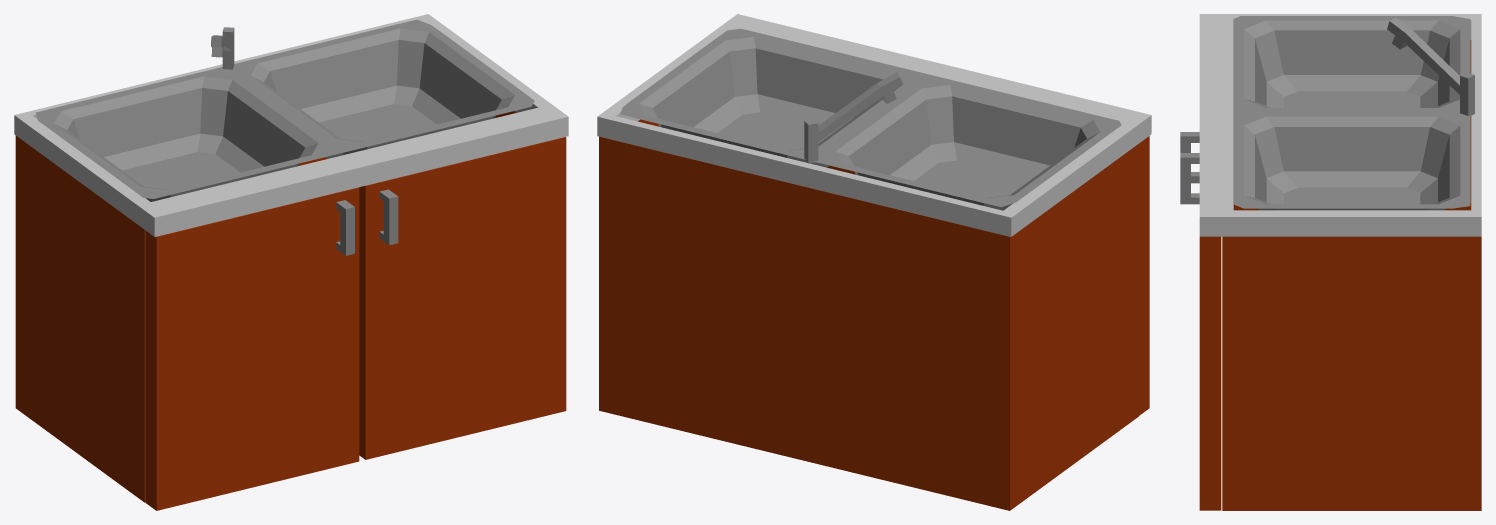
File: lavello_doppio_Scene.obj
The picture shows the model from 3 angles, left to right: view 1: azimuth 30°, elevation 25°; view 2: azimuth 150°, elevation 25°; view 3: azimuth 270°, elevation 25°; orthographic projection.
Visible parts, largest first — view 1: Cube.002_Cube.002_Wood_Cherry, Plane_Plane_Aluminum, Plane.001_Plane.001_Material, Cube.002_Cube.002_Aluminum, Cube.001_Cube.001_Aluminum; view 2: Cube.002_Cube.002_Wood_Cherry, Plane_Plane_Aluminum, Plane.001_Plane.001_Material, Cube.001_Cube.001_Aluminum; view 3: Cube.002_Cube.002_Wood_Cherry, Plane_Plane_Aluminum, Plane.001_Plane.001_Material, Cube.001_Cube.001_Aluminum, Cube.002_Cube.002_Aluminum.
Boxes of the visible parts, x1=… form: Cube.002_Cube.002_Wood_Cherry: x1=15, y1=111, x2=566, y2=510; Plane_Plane_Aluminum: x1=35, y1=19, x2=534, y2=201; Plane.001_Plane.001_Material: x1=14, y1=14, x2=568, y2=236; Cube.002_Cube.002_Aluminum: x1=336, y1=189, x2=398, y2=255; Cube.001_Cube.001_Aluminum: x1=211, y1=27, x2=234, y2=69; Cube.002_Cube.002_Wood_Cherry: x1=599, y1=119, x2=1149, y2=510; Plane_Plane_Aluminum: x1=620, y1=28, x2=1121, y2=210; Plane.001_Plane.001_Material: x1=597, y1=14, x2=1151, y2=236; Cube.001_Cube.001_Aluminum: x1=804, y1=73, x2=902, y2=163; Cube.002_Cube.002_Wood_Cherry: x1=1199, y1=40, x2=1481, y2=510; Plane_Plane_Aluminum: x1=1233, y1=16, x2=1470, y2=210; Plane.001_Plane.001_Material: x1=1199, y1=14, x2=1481, y2=236; Cube.001_Cube.001_Aluminum: x1=1387, y1=17, x2=1474, y2=115; Cube.002_Cube.002_Aluminum: x1=1180, y1=132, x2=1199, y2=204.
Size of the model in its own units: 4.44 by 3.75 by 2.79.
